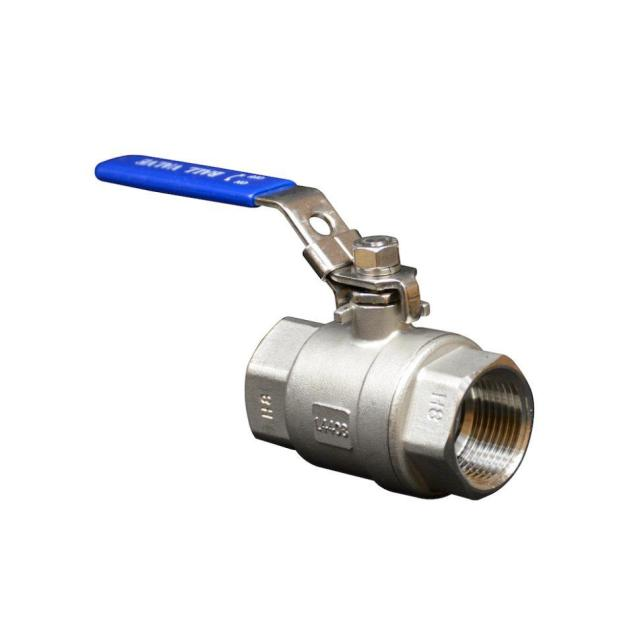opened_valve: (92, 149, 535, 502)
